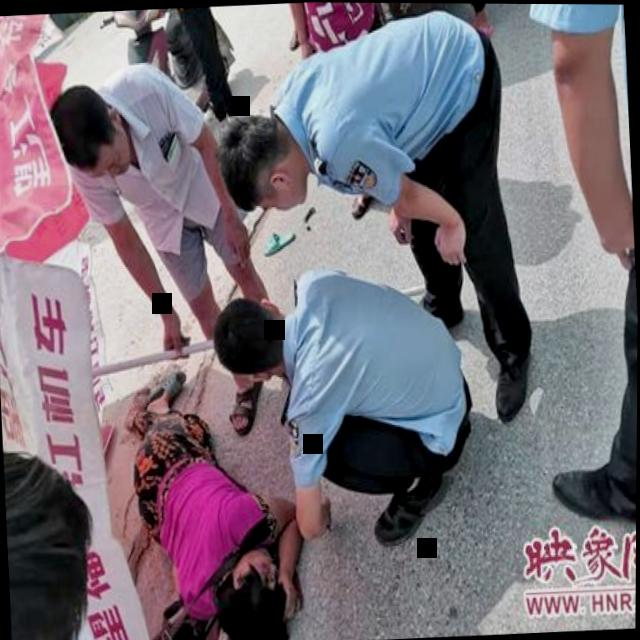Fall-Detected: (115, 354, 329, 640)
